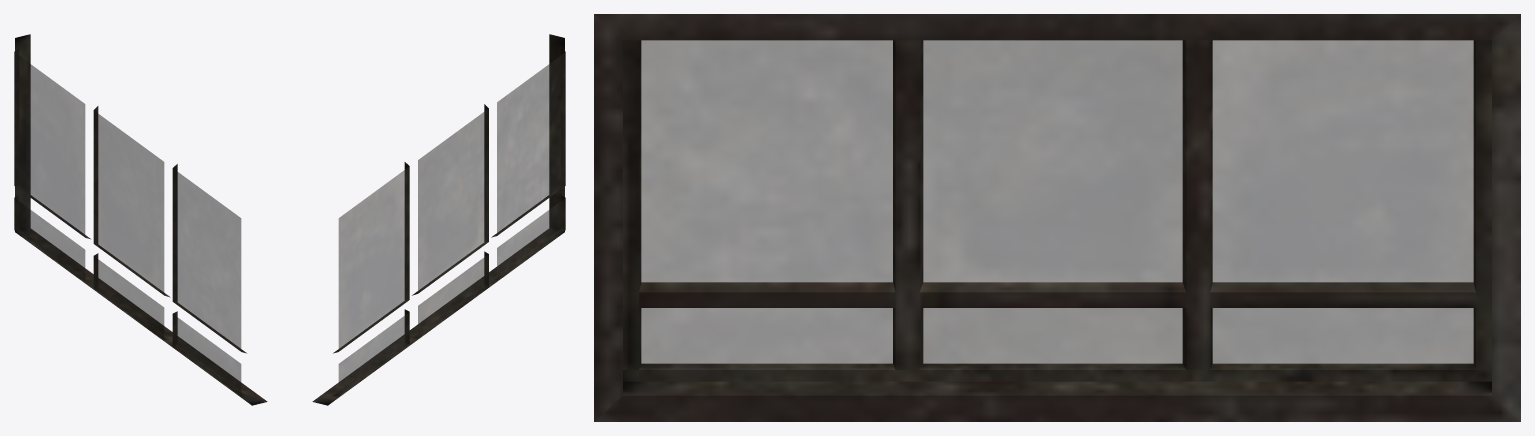
The model's file is TripleWindow.FBX.
3 renders of one model, left to right at view 1: azimuth 30°, elevation 25°; view 2: azimuth 150°, elevation 25°; view 3: azimuth 270°, elevation 25°, orthographic. The views are drawn at different scales.
Parts seen in each view (by area): view 1: TripleWindow; view 2: TripleWindow; view 3: TripleWindow.
Boxes of the visible parts, <box> form: TripleWindow: <box>14,34,267,405</box>; TripleWindow: <box>312,34,565,405</box>; TripleWindow: <box>594,14,1520,421</box>.
Bounding box in the file's own units: 20.42 × 202 × 417.
2 materials, 2 textured.
